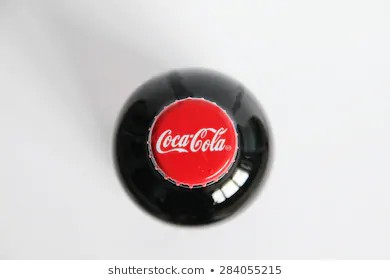coke-glass-bottle: (109, 69, 276, 231)
